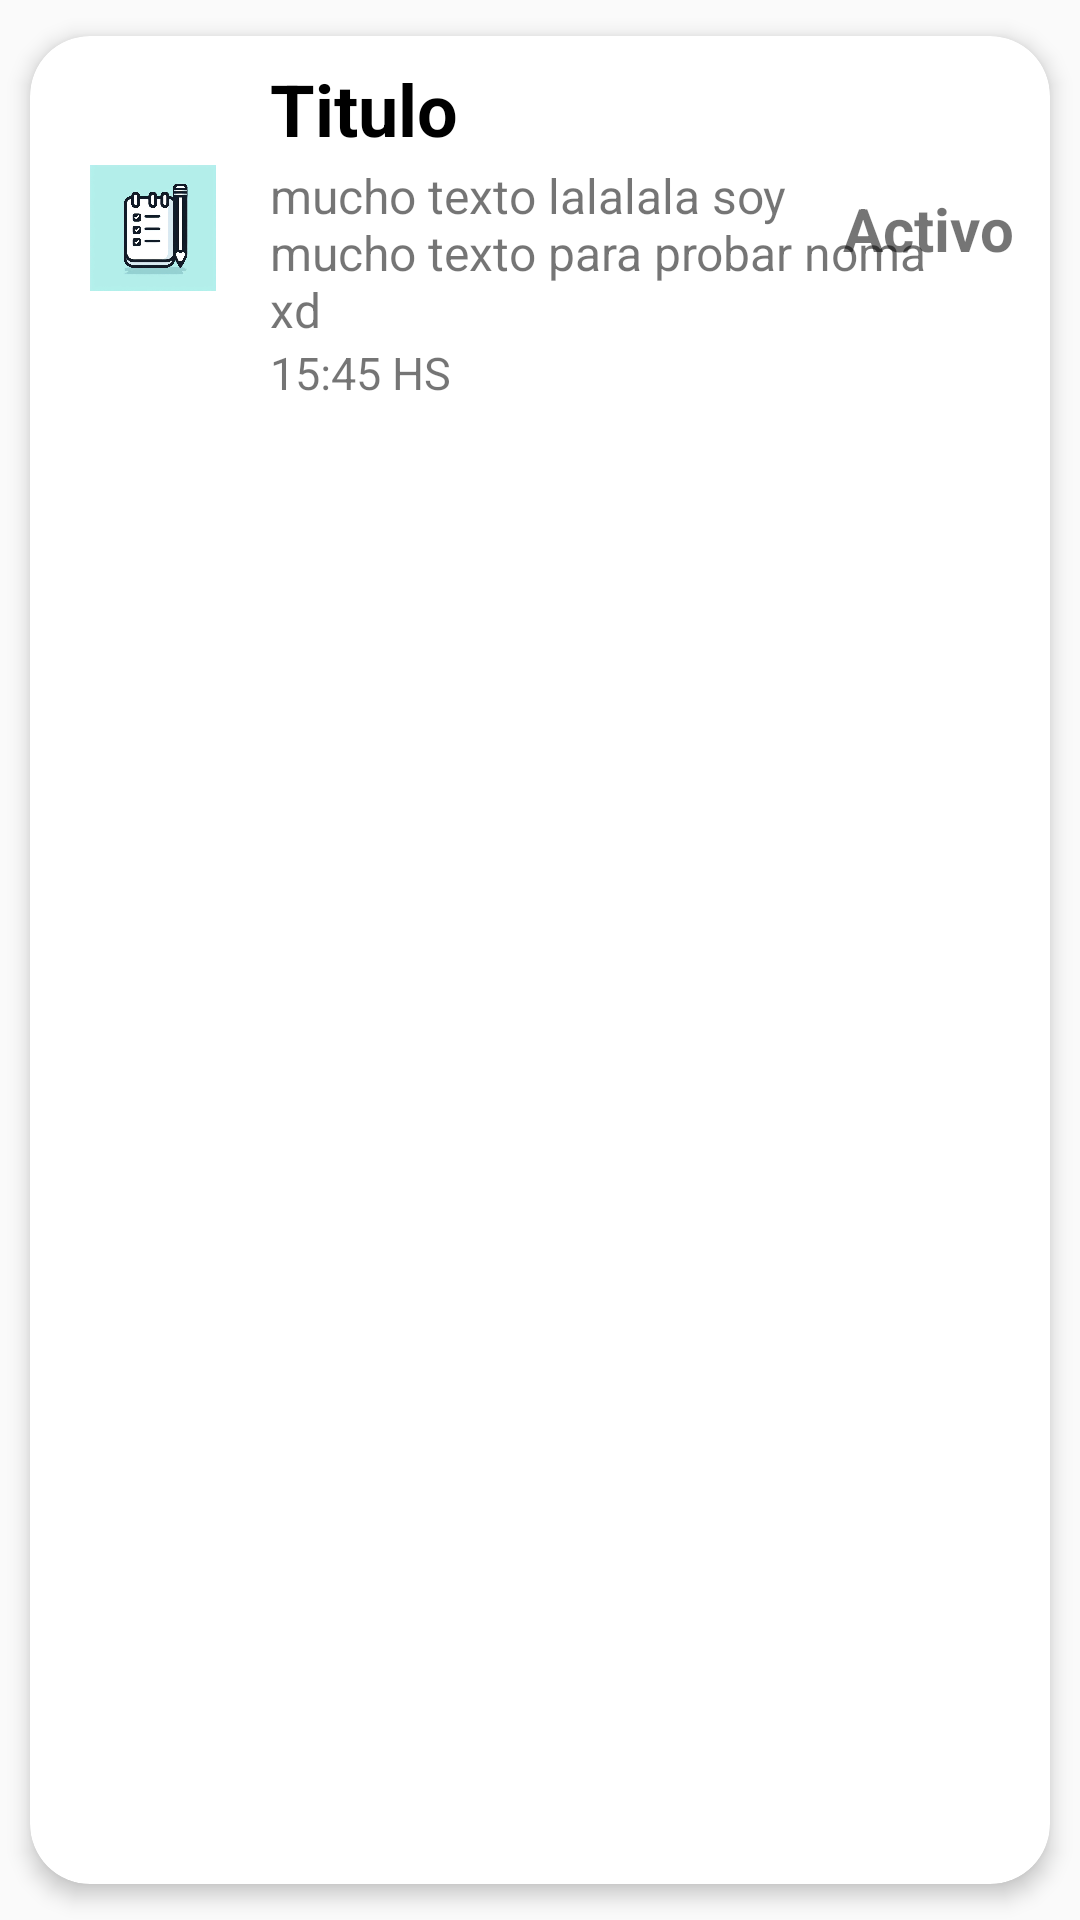

Locate icon controls on the screen. Image size 1080w x 1920h, boxes as (x1, y1, x2, y2).
tarea: (90, 165, 216, 291)
